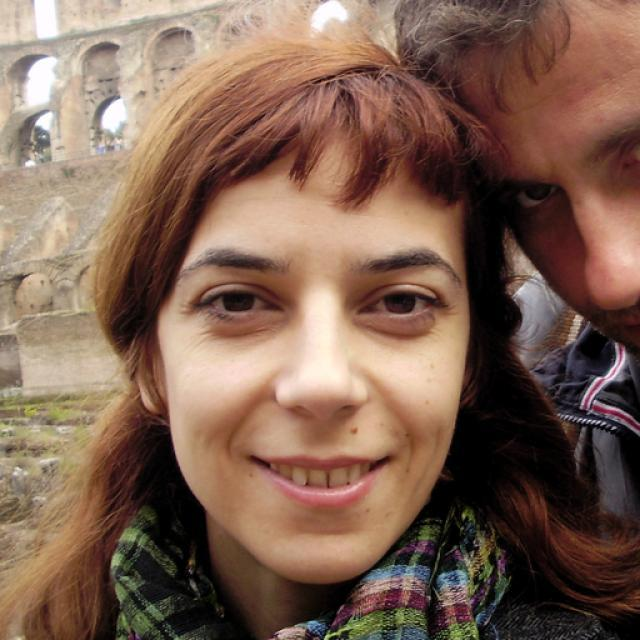happy: (161, 160, 470, 579), (460, 2, 640, 358)
